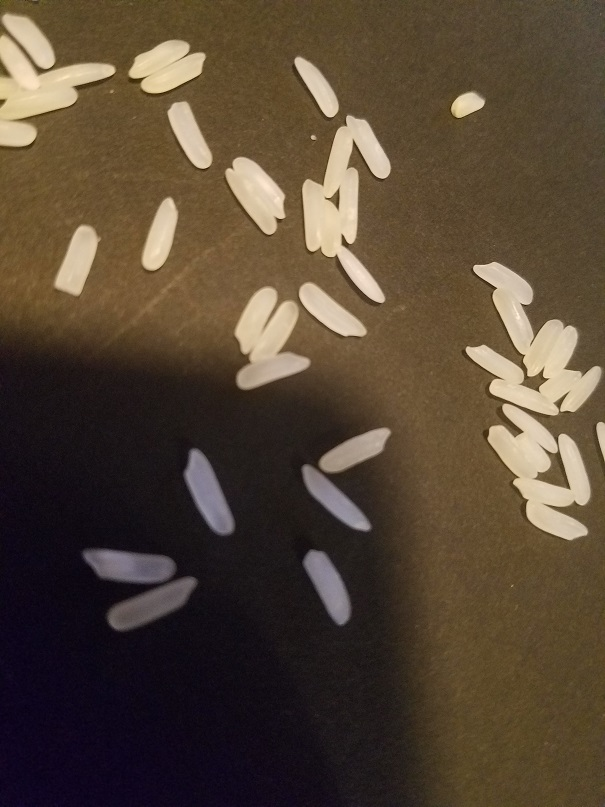egg: (106, 573, 201, 636), (177, 445, 237, 540), (298, 464, 374, 536), (299, 549, 359, 627), (295, 279, 370, 339), (221, 166, 282, 239), (232, 151, 290, 222), (165, 98, 216, 173), (317, 425, 393, 475), (51, 221, 99, 300), (80, 547, 177, 586), (291, 53, 344, 123), (344, 112, 395, 184), (248, 297, 302, 364), (1, 10, 59, 70), (334, 242, 389, 305), (232, 284, 278, 358), (138, 194, 180, 272), (139, 49, 207, 97), (554, 429, 595, 508), (235, 350, 312, 392), (487, 376, 562, 419), (524, 501, 594, 547), (483, 420, 537, 478), (500, 401, 560, 453), (126, 37, 195, 81), (490, 287, 535, 354), (1, 82, 79, 120), (471, 259, 534, 306), (465, 339, 527, 384), (38, 60, 117, 92), (509, 473, 577, 510), (1, 33, 44, 88), (323, 125, 354, 201), (560, 365, 605, 415), (523, 322, 563, 378), (540, 325, 578, 379), (512, 433, 555, 477), (340, 165, 362, 247), (301, 179, 322, 254), (320, 193, 341, 259), (539, 369, 579, 400), (1, 121, 40, 149)
